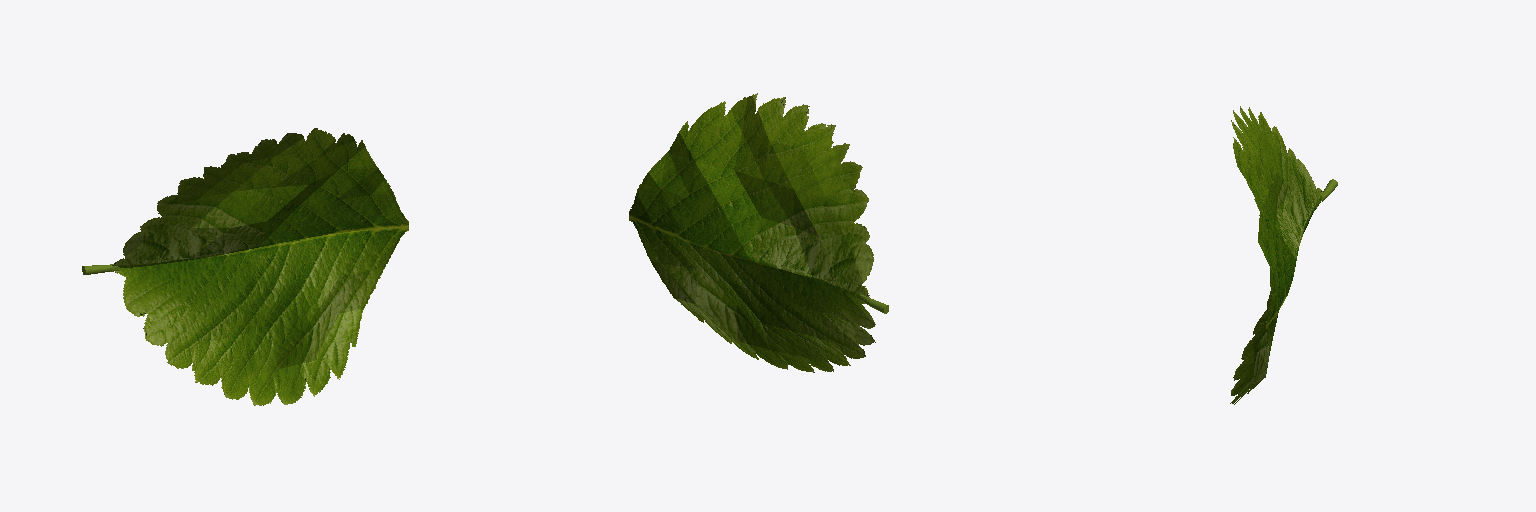
3 views of the same model, side by side, from view 1: azimuth 30°, elevation 25°; view 2: azimuth 150°, elevation 25°; view 3: azimuth 270°, elevation 25° (orthographic).
Visible parts, largest first — view 1: leaf_Plane; view 2: leaf_Plane; view 3: leaf_Plane.
Boxes of the visible parts, x1=… form: leaf_Plane: x1=112, y1=128, x2=408, y2=405; leaf_Plane: x1=629, y1=93, x2=875, y2=372; leaf_Plane: x1=1230, y1=106, x2=1322, y2=404.
Size of the model in its own units: 2.15 by 1.97 by 0.7415.
2 materials, 1 textured.